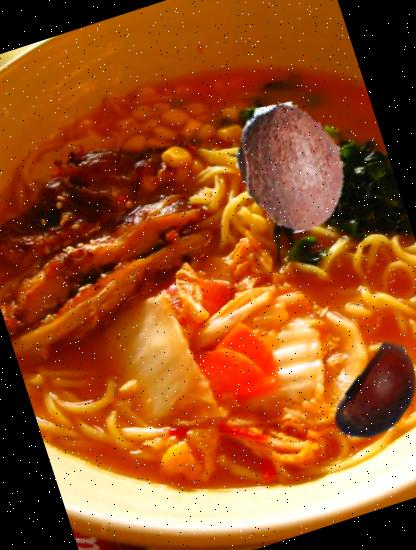Chestnut: (313, 328, 416, 462)
Cocos: (208, 86, 372, 250)
